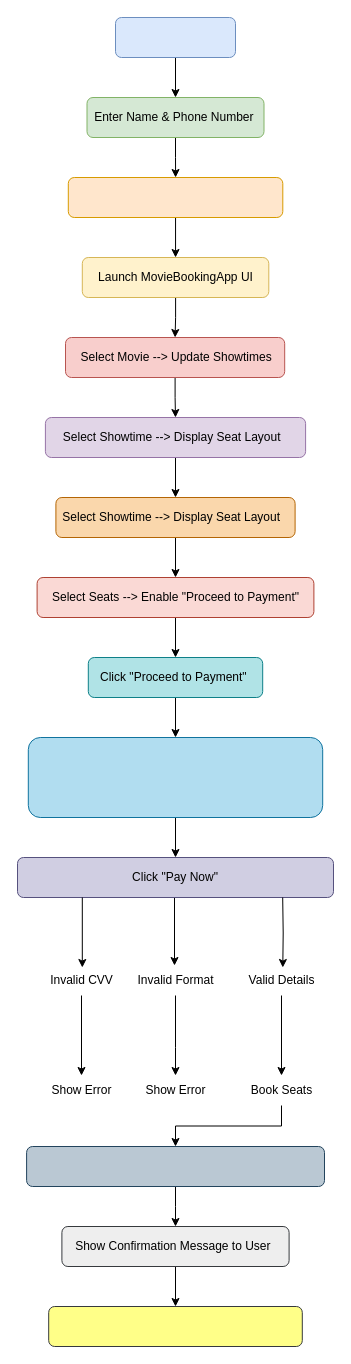
Image size: 351x1364. Some labels were removed from this diagram. The shapes that lost their labels are listed below. From the top down, each one's box as (x1, y1, x2, y2) in pixels, then its label:
(114, 16, 236, 58): Login Screen
(67, 176, 283, 218): Validate Inputs & T&C Agreement
(27, 736, 323, 818): Payment Screen: - Shows Booking Summary - Input Card Details (Card, Expiry, CVV)
(26, 1146, 324, 1186): Save Booking to CSV ("bookings.csv")
(48, 1306, 302, 1346): Refresh Main UI with Updated Seat Count
